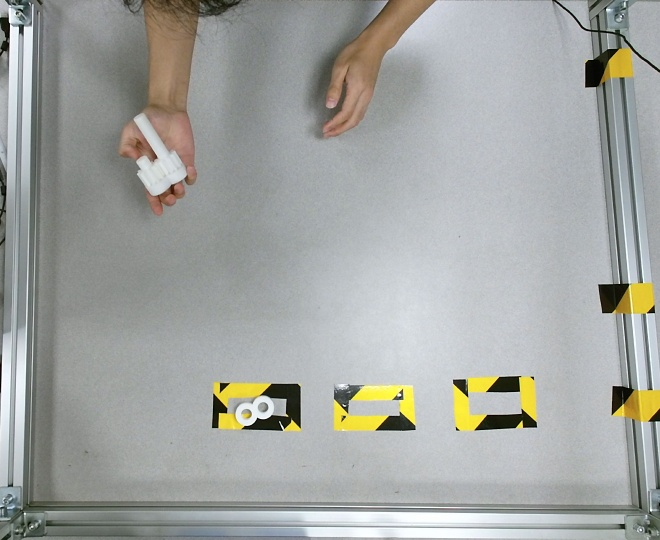stage_3: (133, 112, 186, 196)
